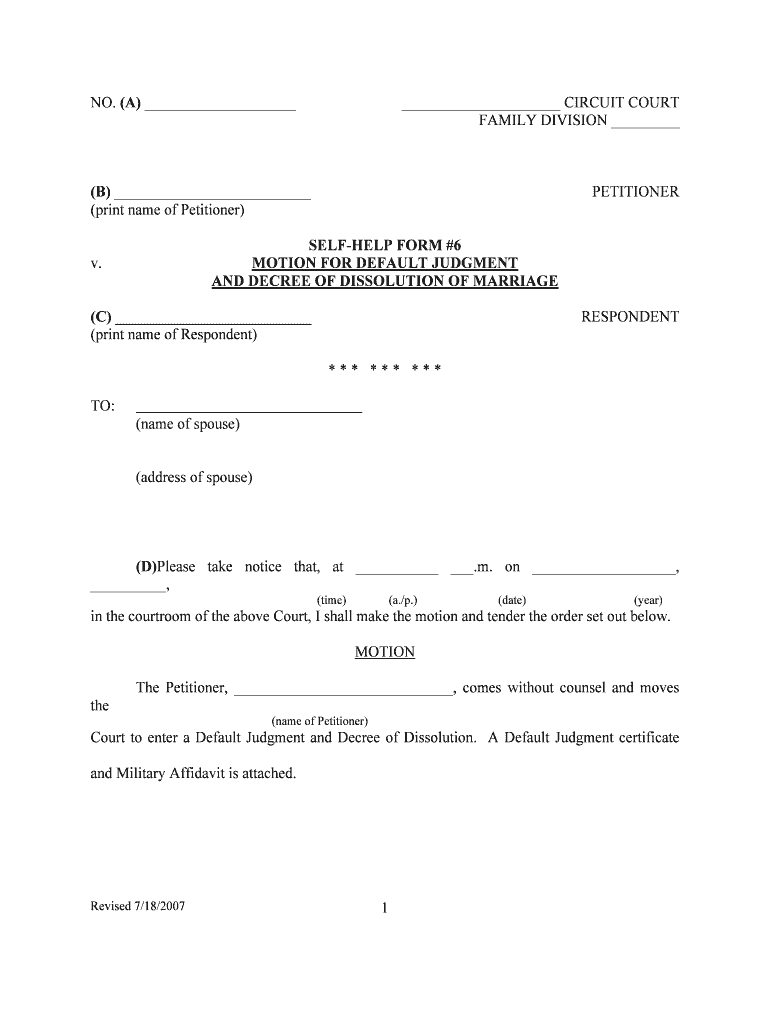textline: (133, 393, 363, 417), (111, 183, 312, 205), (111, 307, 312, 329), (231, 680, 455, 699), (399, 92, 562, 114), (529, 555, 677, 578), (141, 93, 301, 113), (352, 559, 439, 579), (86, 576, 168, 595), (608, 112, 681, 132), (448, 557, 474, 577)
